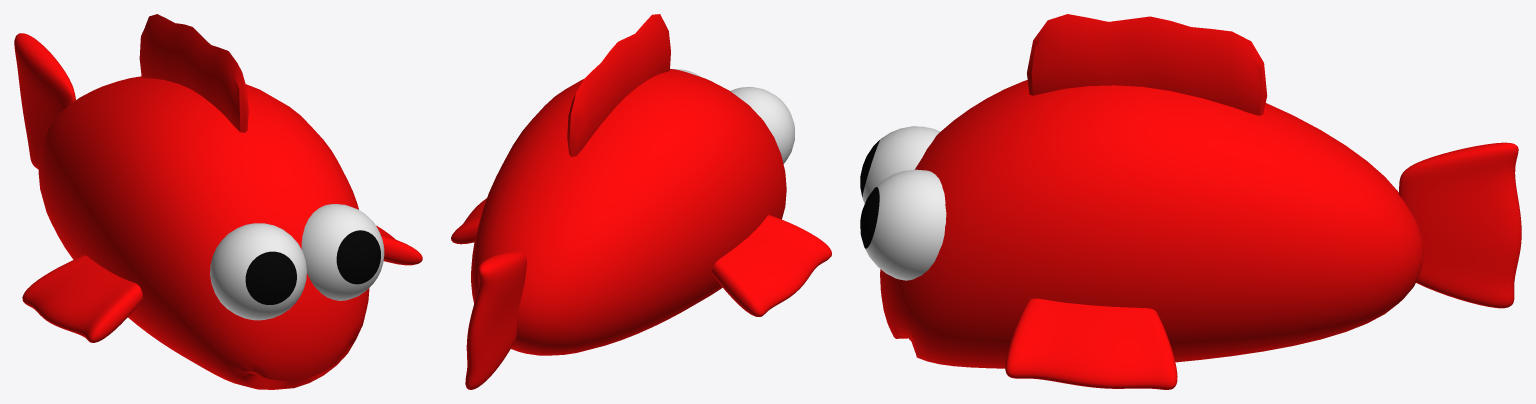
The model's file is Fish.fbx.
The picture shows the model from 3 angles, left to right: view 1: azimuth 30°, elevation 25°; view 2: azimuth 150°, elevation 25°; view 3: azimuth 270°, elevation 25°; orthographic projection. The views are drawn at different scales.
Visible parts, largest first — view 1: Cube, Sphere, Cube.001, Cube.003, Sphere.001, Cube.004, Cube.002; view 2: Cube, Cube.003, Cube.001, Cube.004, Sphere, Cube.002; view 3: Cube, Cube.001, Cube.004, Cube.002, Sphere.001, Sphere.
Part boxes in pixels (x1=…): Cube: x1=38, y1=76, x2=369, y2=389; Sphere: x1=210, y1=223, x2=306, y2=320; Cube.001: x1=139, y1=14, x2=248, y2=132; Cube.003: x1=22, y1=255, x2=142, y2=342; Sphere.001: x1=301, y1=204, x2=384, y2=300; Cube.004: x1=14, y1=33, x2=75, y2=169; Cube.002: x1=376, y1=225, x2=422, y2=265; Cube: x1=471, y1=68, x2=786, y2=355; Cube.003: x1=712, y1=215, x2=831, y2=316; Cube.001: x1=567, y1=14, x2=670, y2=156; Cube.004: x1=465, y1=252, x2=526, y2=389; Sphere: x1=730, y1=87, x2=794, y2=163; Cube.002: x1=451, y1=198, x2=486, y2=244; Cube: x1=880, y1=80, x2=1423, y2=368; Cube.001: x1=1027, y1=14, x2=1267, y2=115; Cube.004: x1=1398, y1=142, x2=1521, y2=308; Cube.002: x1=1005, y1=298, x2=1177, y2=389; Sphere.001: x1=860, y1=169, x2=946, y2=280; Sphere: x1=860, y1=126, x2=939, y2=203.
Size of the model in its own units: 253 by 211 by 371.
